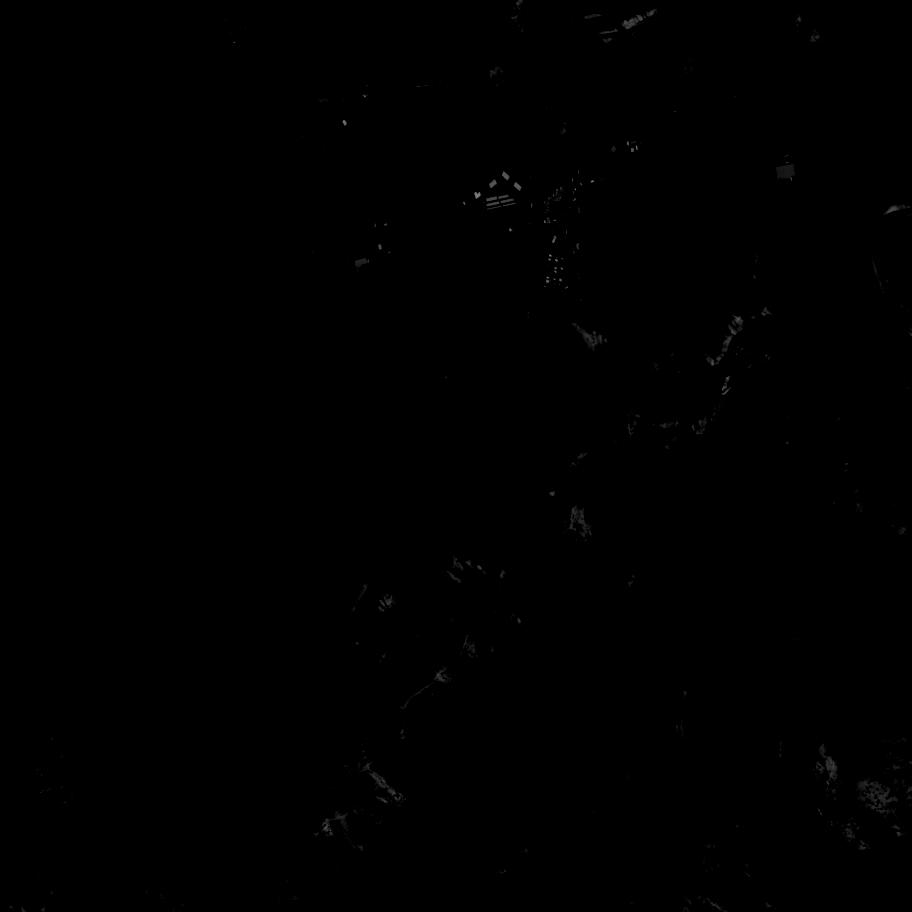storage-tank: (766, 172, 771, 178), (640, 182, 645, 187), (636, 181, 637, 184)
